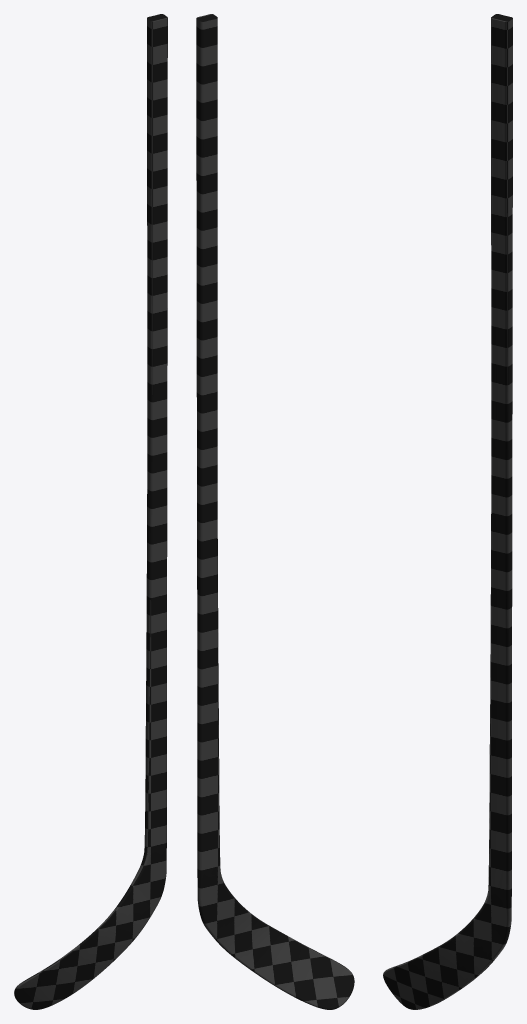
Rendered from P84-SBT.glb.
The picture shows the model from 3 angles, left to right: view 1: azimuth 30°, elevation 25°; view 2: azimuth 210°, elevation 25°; view 3: azimuth 330°, elevation 25°; orthographic projection. The views are drawn at different scales.
Parts seen in each view (by area): view 1: geometry_0; view 2: geometry_0; view 3: geometry_0.
Part boxes in pixels (x1,y1,x2,y2): geometry_0: [14, 14, 167, 1009]; geometry_0: [196, 14, 354, 1009]; geometry_0: [383, 14, 512, 1009].
Size of the model in its own units: 241 by 1650 by 65.01.
1 material, 1 textured.
